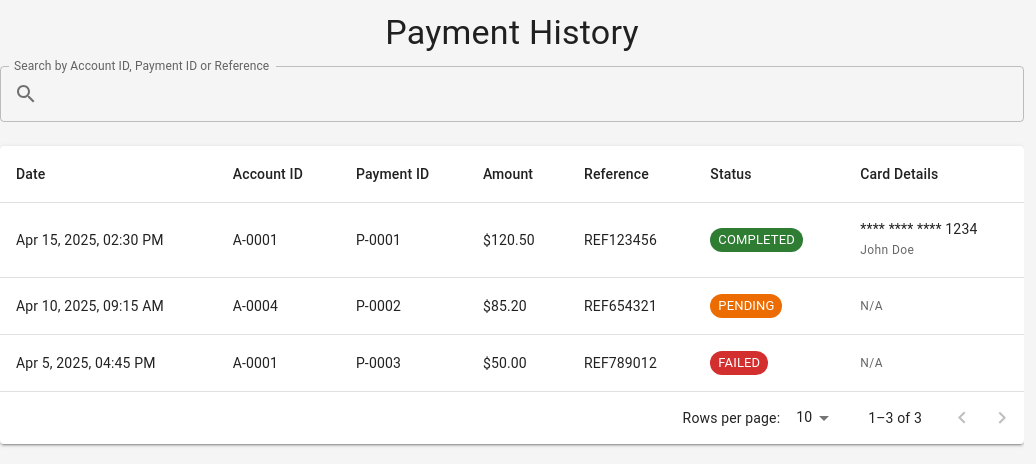
Test: PaymentHistoryPage › searches payments by payment ID
The width and height of the screenshot is (1036, 464).
Expected: the text "P-0001" is shown, [340,202,467,277]
Type "P-0003" into the field labelled "Search by Account ID, Payment ID or Reference" at (535, 94), box [46,66,1024,122]
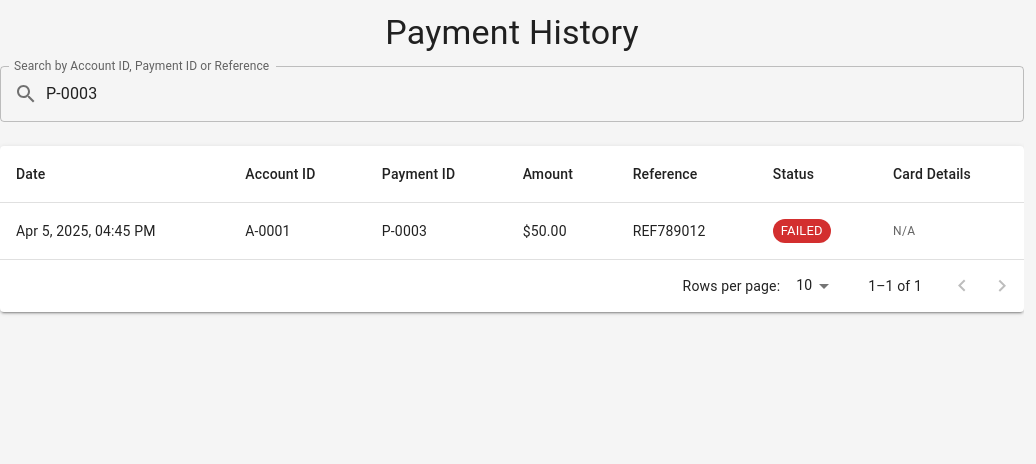
Expected: the text "P-0003" is shown, [366,202,507,259]
Expected: the number of rows is 2, [0,146,1024,202]; [0,202,1024,259]
